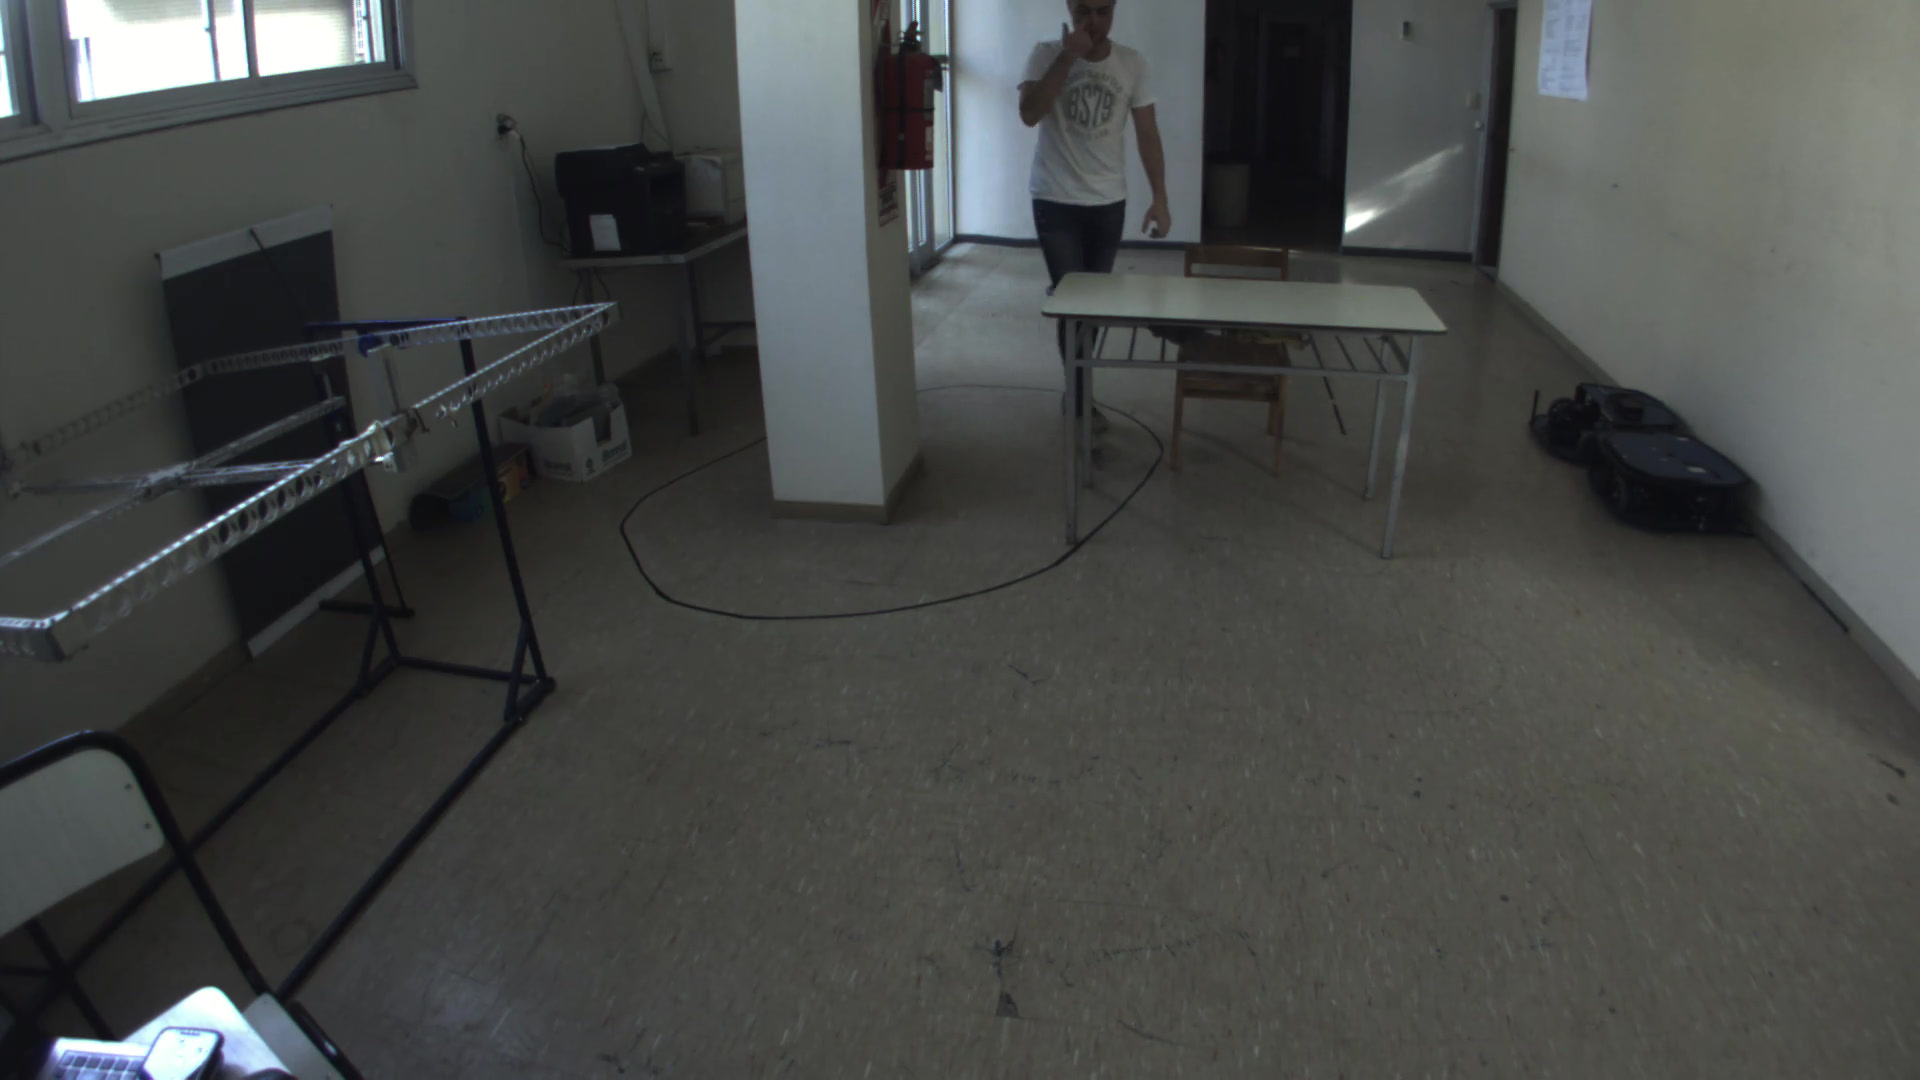hand: (1054, 15, 1112, 71), (1135, 190, 1179, 239)
